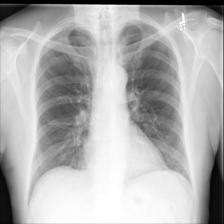normal: (27, 20, 195, 205)
